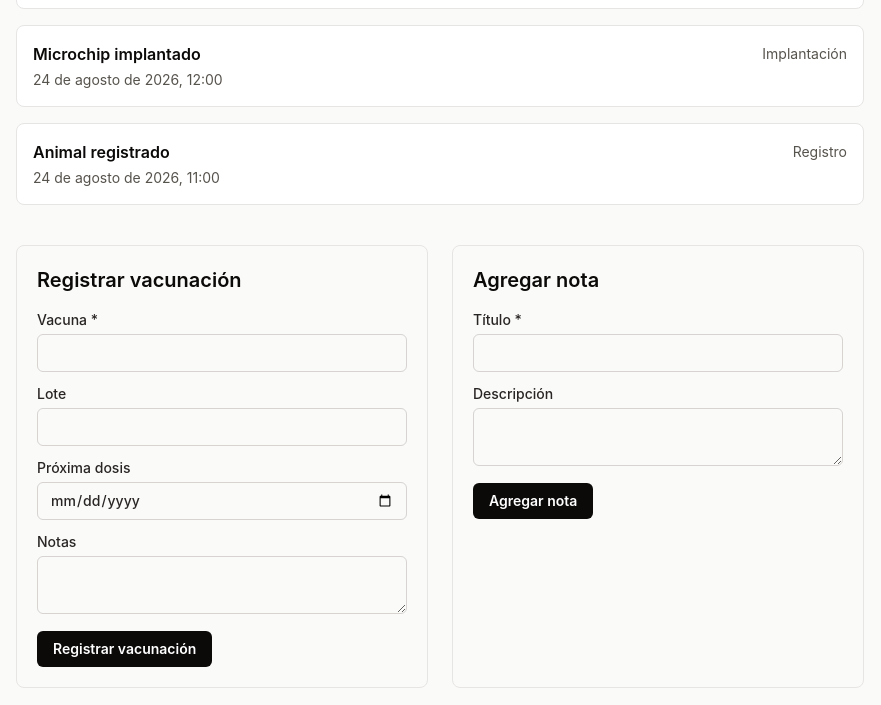
AnimalProfilePage › creates a vaccination without audit fields and refreshes the timeline
(page scrolled)
Type "Rabia" into the field labelled "Vacuna *" at x=222, y=353, box [37,334,407,372]
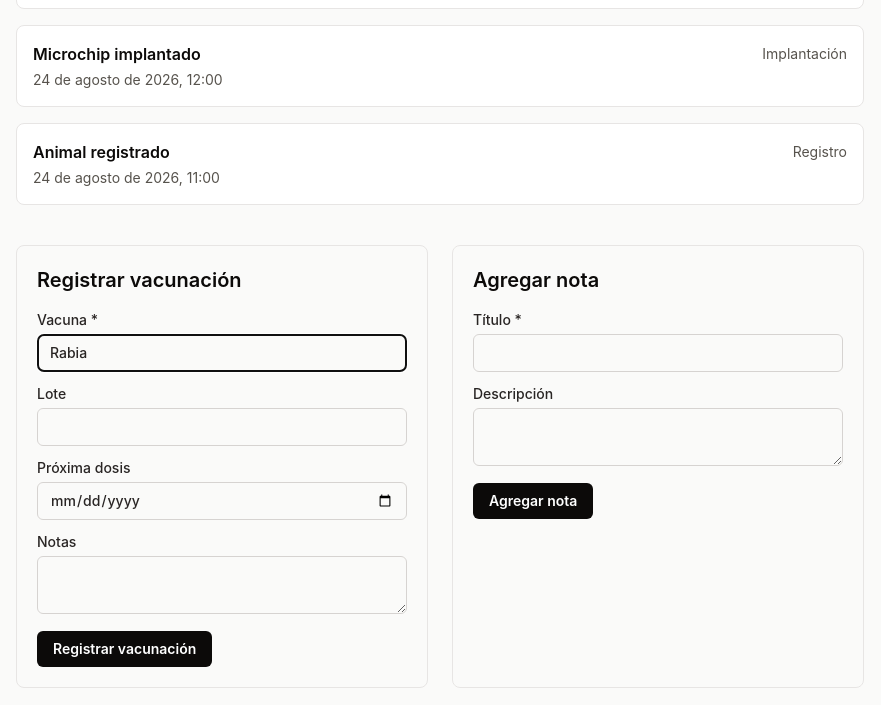
Type "DEMO-RAB-001" into the field labelled "Lote" at x=222, y=427, box [37,408,407,446]
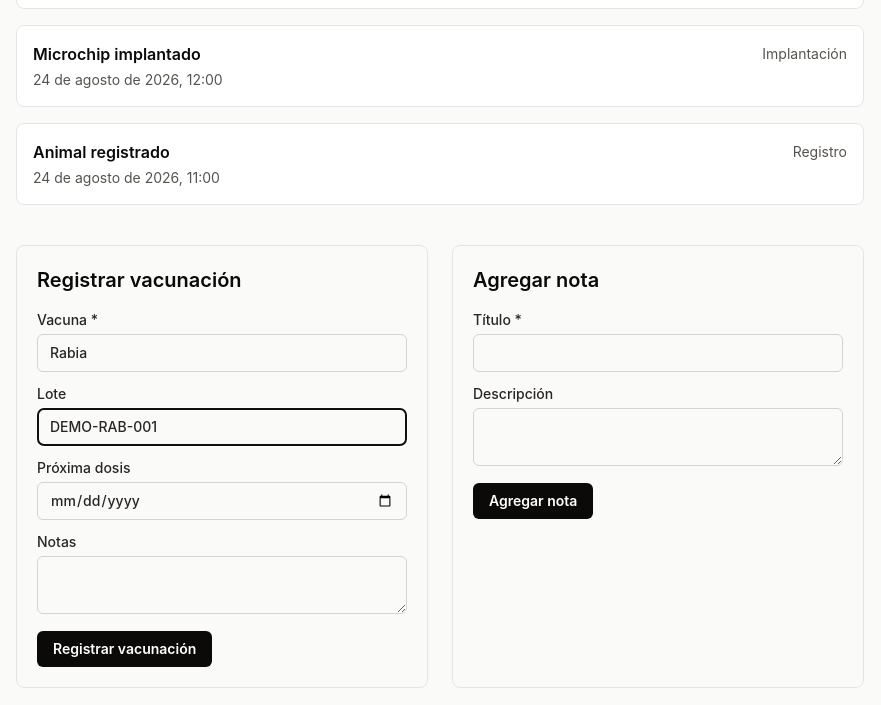
Click the button "Registrar vacunación" at x=125, y=649, box [37,631,212,667]
(page scrolled)
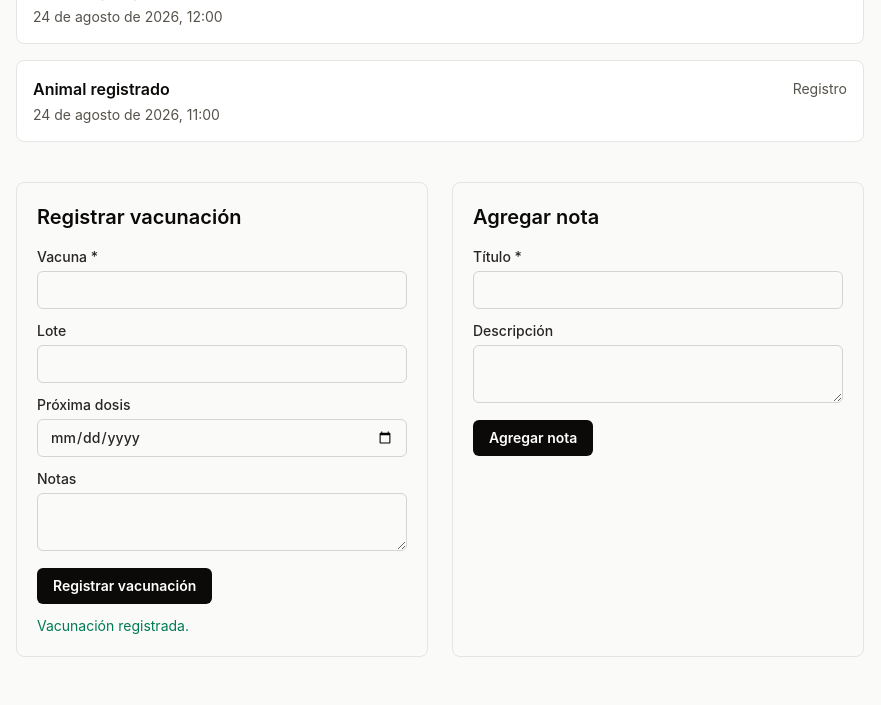
Expected: the text "Vacunación registrada." is shown, [37,617,189,634]
